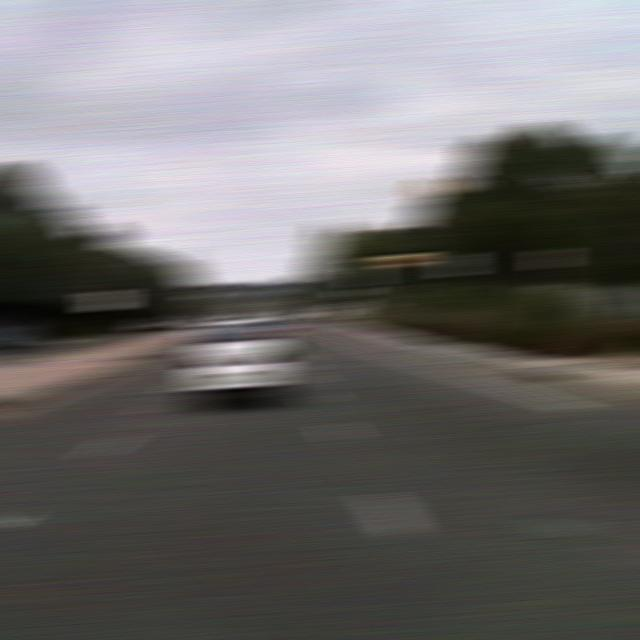speedLimit45: (441, 252, 474, 277)
